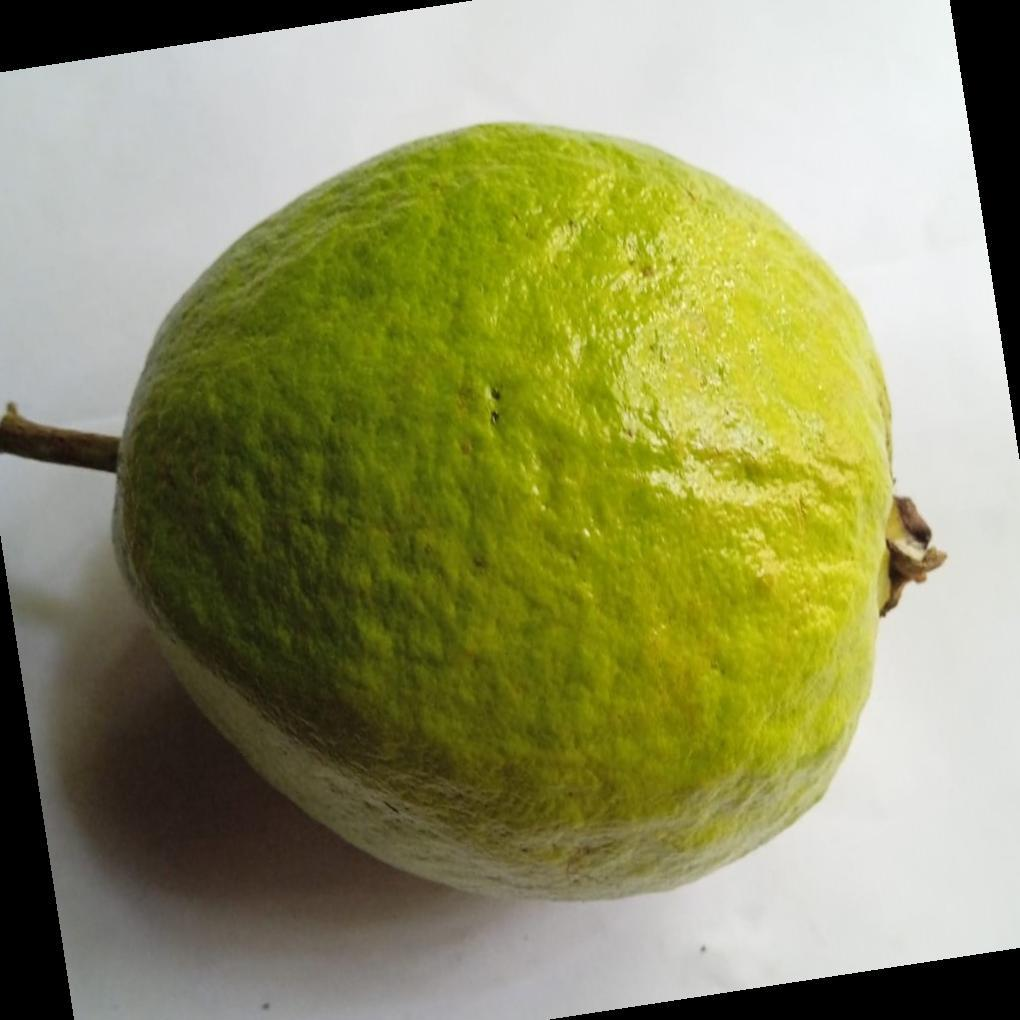FreshGuava: (111, 122, 940, 907)
